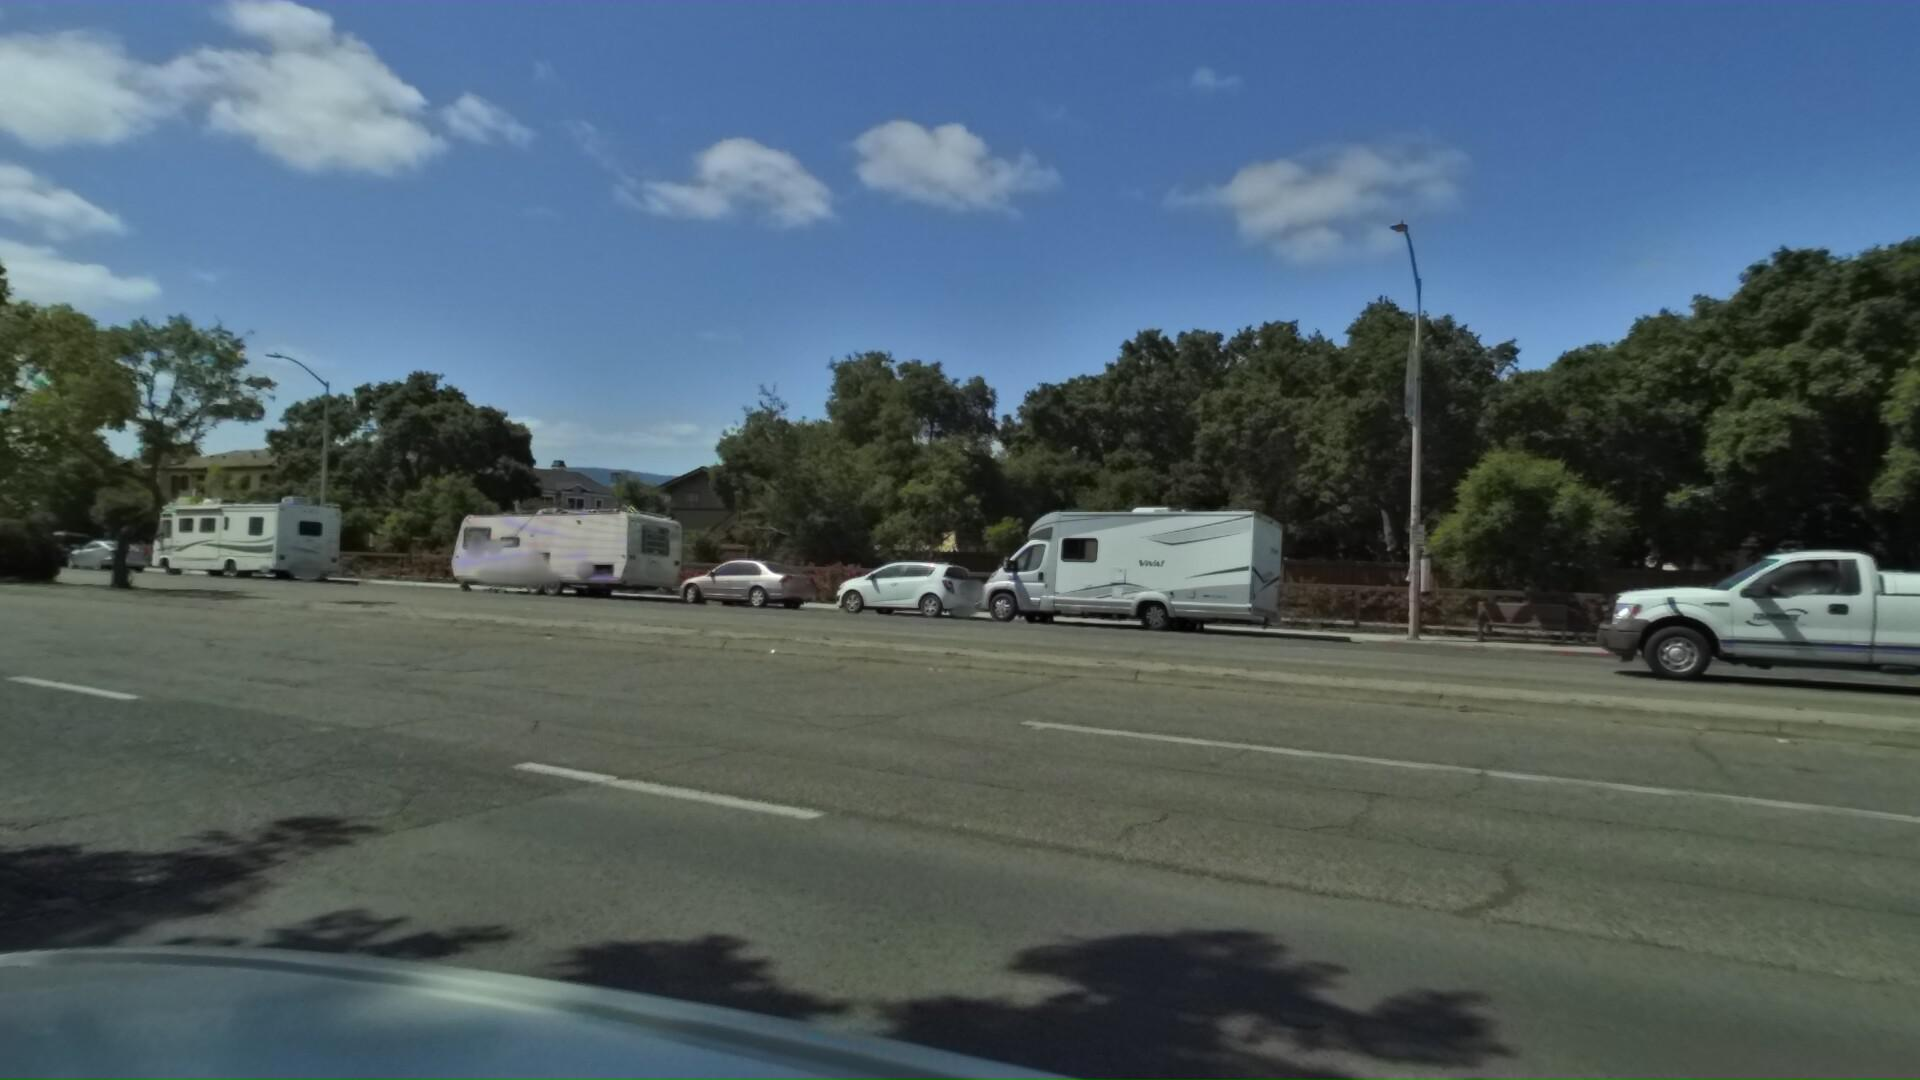car: (1531, 537, 1920, 702), (829, 553, 986, 621), (670, 551, 822, 612), (18, 522, 113, 572), (66, 534, 160, 575)
other_vehicle: (959, 495, 1288, 641), (444, 496, 698, 601), (148, 485, 355, 589)
